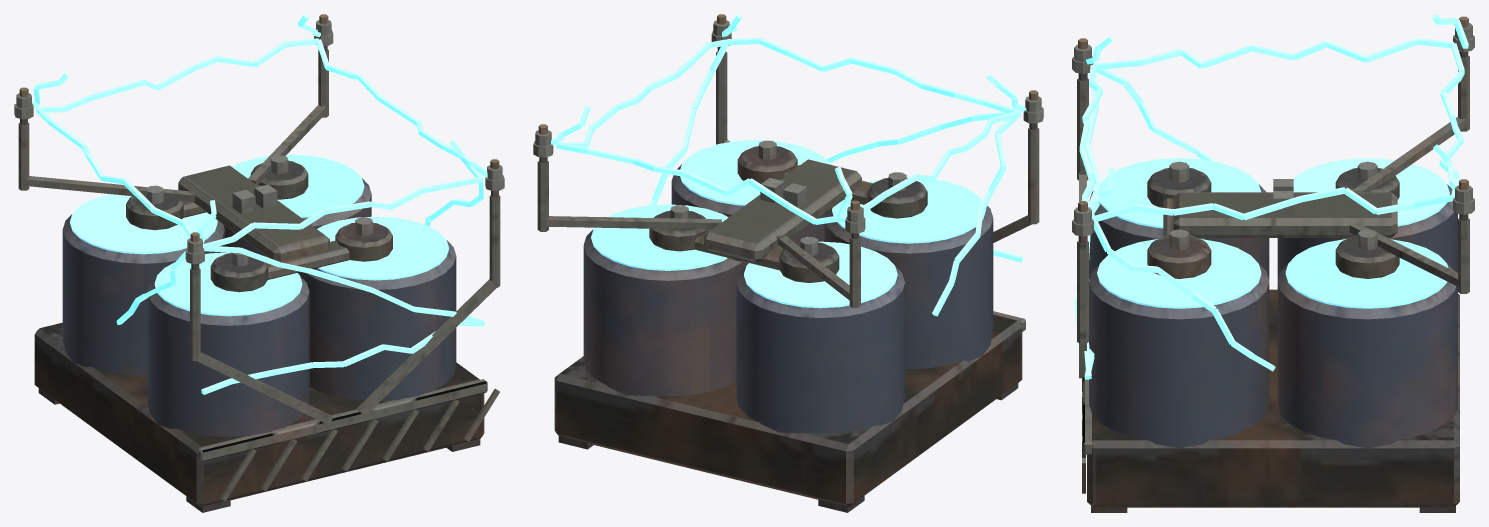
Rendered from accumulator.glb.
The picture shows the model from 3 angles, left to right: view 1: azimuth 30°, elevation 25°; view 2: azimuth 150°, elevation 25°; view 3: azimuth 270°, elevation 25°; orthographic projection. The views are drawn at different scales.
Visible parts, largest first — view 1: body, anim_lit_charge, anim_lit_discharge; view 2: body, anim_lit_charge, anim_lit_discharge; view 3: body, anim_lit_charge, anim_lit_discharge.
Boxes of the visible parts, bbox=[...] form: body: bbox=[14, 14, 504, 512]; anim_lit_charge: bbox=[32, 14, 487, 316]; anim_lit_discharge: bbox=[35, 38, 484, 394]; body: bbox=[533, 14, 1043, 512]; anim_lit_charge: bbox=[551, 14, 1026, 308]; anim_lit_discharge: bbox=[555, 38, 1022, 316]; body: bbox=[1072, 16, 1474, 512]; anim_lit_charge: bbox=[1086, 14, 1468, 308]; anim_lit_discharge: bbox=[1074, 38, 1464, 379].
Bounding box in the file's own units: 2.03 × 1.97 × 2.01.
Materials: 3 (3 with a texture image).
